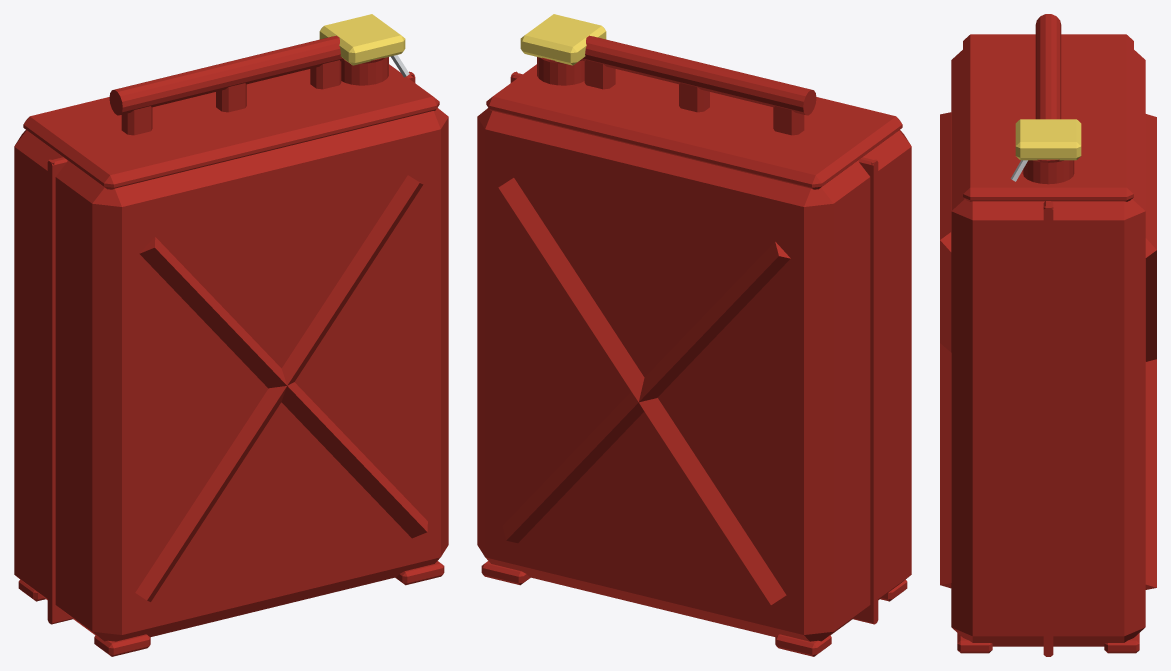
Rendered from galao_gasolina.glb.
3 renders of one model, left to right at view 1: azimuth 30°, elevation 25°; view 2: azimuth 150°, elevation 25°; view 3: azimuth 270°, elevation 25°, orthographic. The views are drawn at different scales.
Visible parts, largest first — view 1: galao_gasolina_tinta_vermelha, galao_gasolina_tinta_amarela; view 2: galao_gasolina_tinta_vermelha, galao_gasolina_tinta_amarela; view 3: galao_gasolina_tinta_vermelha, galao_gasolina_tinta_amarela.
Boxes of the visible parts, x1,y1,x2,y2 form: galao_gasolina_tinta_vermelha: [14, 35, 448, 656]; galao_gasolina_tinta_amarela: [319, 14, 405, 65]; galao_gasolina_tinta_vermelha: [477, 35, 911, 656]; galao_gasolina_tinta_amarela: [520, 14, 606, 65]; galao_gasolina_tinta_vermelha: [940, 14, 1156, 656]; galao_gasolina_tinta_amarela: [1015, 119, 1081, 160].
Bounding box in the file's own units: 0.346 × 0.475 × 0.1842.
